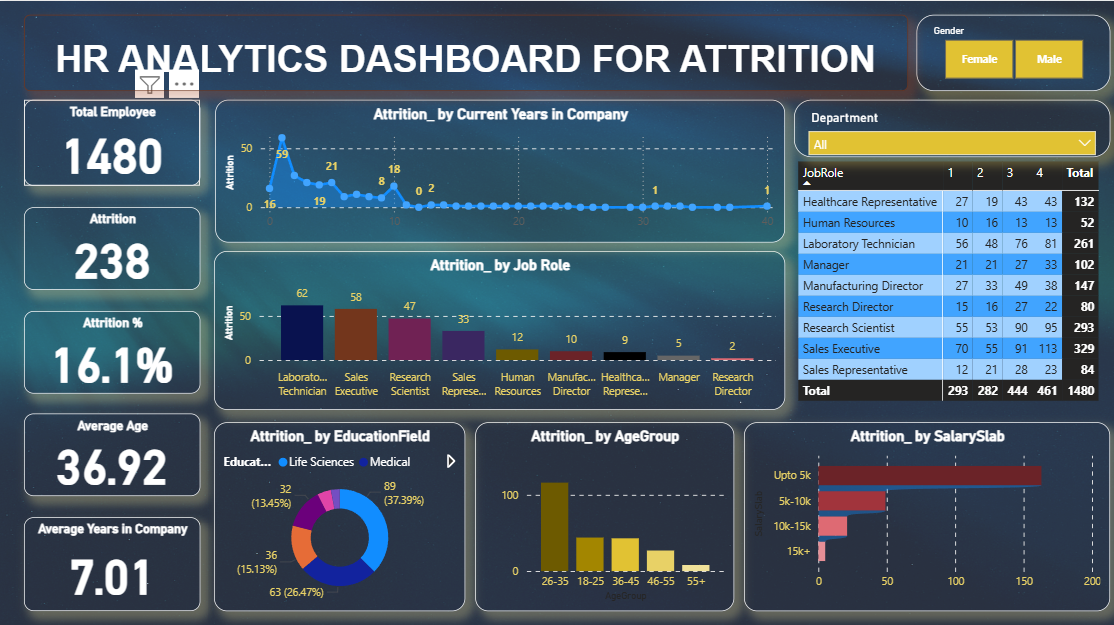

What the dashboard file says about the page in this screenshot:
{"tool":"powerbi","page":{"name":"Page 1","canvas":[1280,720],"ordinal":0},"visuals":[{"type":"card","title":"Total Employee","fields":{"Values":["Sum(HR_Analytics.EmployeeCount)"]},"box":[28.8,112.5,201.7,98.8],"z":0},{"type":"card","title":"Attrition","fields":{"Values":["Sum(HR_Analytics.Attrition_)"]},"box":[28.8,235.2,201.7,94.7],"z":1000},{"type":"card","title":"Attrition %","fields":{"Values":["HR_Analytics.Attrition Percentage"]},"box":[28.6,353.7,201.4,94.3],"z":2000},{"type":"card","title":"Average Age","fields":{"Values":["Avg(HR_Analytics.Age)"]},"box":[28.6,471.9,201.4,94.3],"z":3000},{"type":"card","title":"Average Years in Company","fields":{"Values":["Avg(HR_Analytics.YearsAtCompany)"]},"box":[28.6,590,201.4,107.1],"z":4000},{"type":"donutChart","title":"Attrition_ by EducationField","fields":{"Y":["Sum(HR_Analytics.Attrition_)"],"Category":["HR_Analytics.EducationField"]},"box":[245.7,481.4,287.1,215.7],"z":5000},{"type":"columnChart","title":" Attrition_ by AgeGroup","fields":{"Category":["HR_Analytics.AgeGroup"],"Y":["Sum(HR_Analytics.Attrition_)"]},"box":[544.3,481.4,295.7,215.7],"z":6000},{"type":"barChart","title":" Attrition_ by SalarySlab","fields":{"Y":["Sum(HR_Analytics.Attrition_)"],"Category":["HR_Analytics.SalarySlab"]},"box":[851.4,481.4,418.6,215.7],"z":7000},{"type":"columnChart","title":" Attrition_ by Job Role","fields":{"Y":["Sum(HR_Analytics.Attrition_)"],"Category":["HR_Analytics.JobRole"]},"box":[245.7,285.7,652.9,181.4],"z":8000},{"type":"areaChart","title":" Attrition_ by Current Years in Company","fields":{"Y":["Sum(HR_Analytics.Attrition_)"],"Category":["HR_Analytics.YearsAtCompany"]},"box":[247.1,112.9,651.4,162.9],"z":9000},{"type":"pivotTable","fields":{"Rows":["HR_Analytics.JobRole"],"Columns":["HR_Analytics.JobSatisfaction"],"Values":["Sum(HR_Analytics.EmployeeCount)"]},"box":[908.6,178.6,371.4,288.6],"z":10000},{"type":"slicer","fields":{"Values":["HR_Analytics.Department"]},"box":[908.6,112.9,361.4,65.7],"z":11000},{"type":"slicer","fields":{"Values":["HR_Analytics.Gender"]},"box":[1048.6,15.7,221.4,87.1],"z":12000},{"type":"textbox","box":[28.6,15.7,1010,87.1],"z":12001}]}

Visuals, with their boxes in screenshot pixels (x1, y1, x2, y2), scaled from the page's 1280x720 canvas onto the 1114x625 screenshot:
"Total Employee" card: locate(25, 98, 201, 183)
"Attrition" card: locate(25, 204, 201, 286)
"Attrition %" card: locate(25, 307, 200, 389)
"Average Age" card: locate(25, 410, 200, 491)
"Average Years in Company" card: locate(25, 512, 200, 605)
"Attrition_ by EducationField" donutChart: locate(214, 418, 464, 605)
" Attrition_ by AgeGroup" columnChart: locate(474, 418, 731, 605)
" Attrition_ by SalarySlab" barChart: locate(741, 418, 1105, 605)
" Attrition_ by Job Role" columnChart: locate(214, 248, 782, 405)
" Attrition_ by Current Years in Company" areaChart: locate(215, 98, 782, 239)
pivotTable - HR_Analytics.JobRole x HR_Analytics.JobSatisfaction: locate(791, 155, 1113, 406)
slicer - HR_Analytics.Department: locate(791, 98, 1105, 155)
slicer - HR_Analytics.Gender: locate(913, 14, 1105, 89)
textbox: locate(25, 14, 904, 89)
